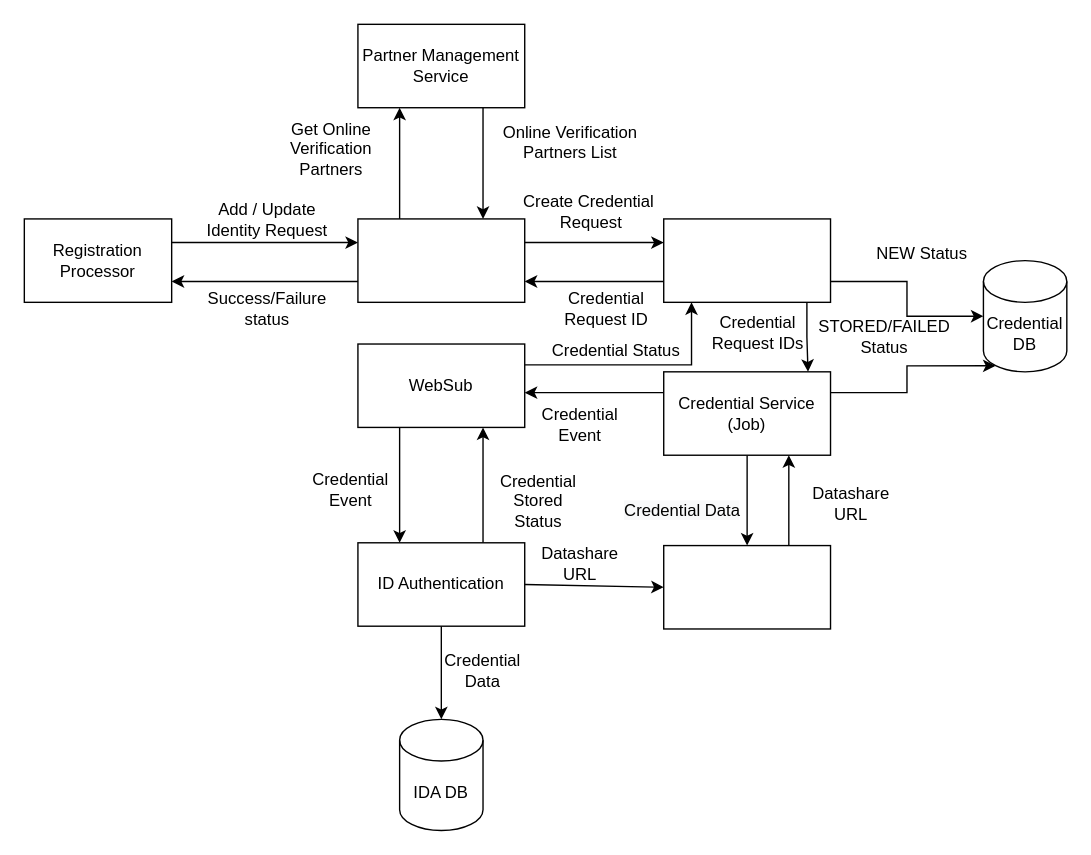
The diagram is 1091 pixels wide and 855 high, and some of its shapes have lost their labels. The shapes that lost their labels are listed below. From the top down, each one's box as (x1, y1, x2, y2) in pixels, then its label:
(357, 218, 525, 302): ID Repository
(662, 218, 831, 302): Credential Request Generator Service
(662, 544, 831, 629): Datashare Service
